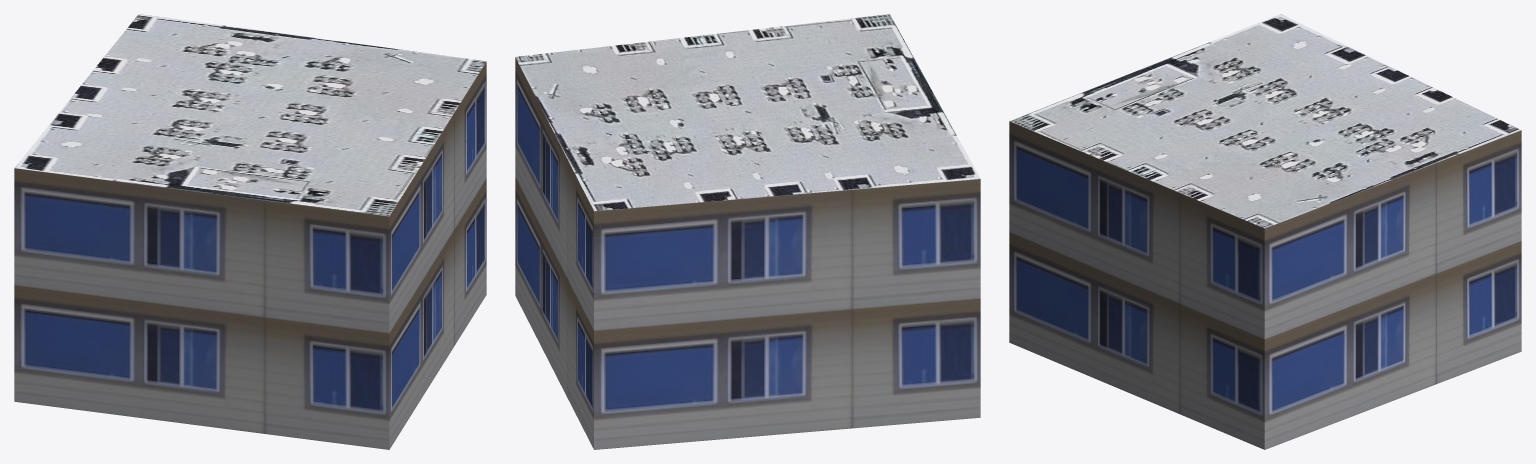
Rendered from ResTex__1259.fbx.
3 renders of one model, left to right at view 1: azimuth 30°, elevation 25°; view 2: azimuth 150°, elevation 25°; view 3: azimuth 270°, elevation 25°, orthographic. The views are drawn at different scales.
Visible parts, largest first — view 1: CityEngineMaterial_23_m, CityEngineMaterial_m; view 2: CityEngineMaterial_23_m, CityEngineMaterial_m; view 3: CityEngineMaterial_23_m, CityEngineMaterial_m.
Part boxes in pixels (box(x1,y1,x2,y2)): CityEngineMaterial_23_m: box(14, 61, 486, 449); CityEngineMaterial_m: box(14, 14, 486, 216); CityEngineMaterial_23_m: box(515, 57, 980, 449); CityEngineMaterial_m: box(515, 14, 980, 211); CityEngineMaterial_23_m: box(1009, 121, 1521, 449); CityEngineMaterial_m: box(1010, 14, 1520, 228).
Size of the model in its own units: 12.47 by 6 by 12.57.
2 materials, 2 textured.
